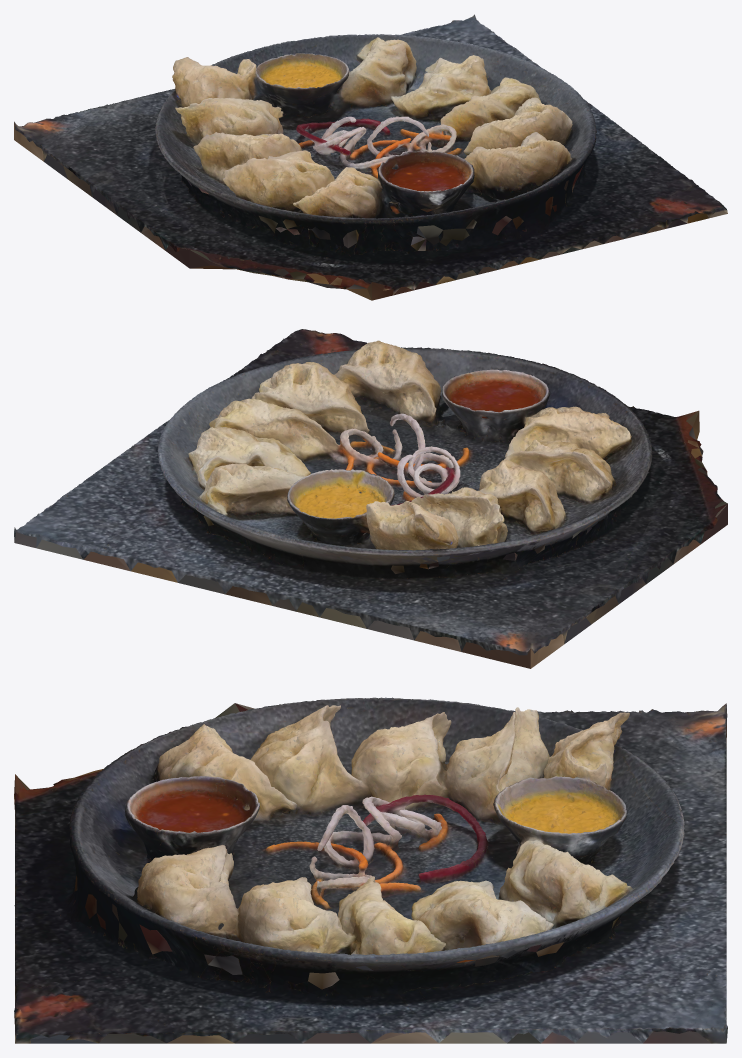
File: pizza-compressed.glb
The picture shows the model from 3 angles, top to bottom: view 1: azimuth 30°, elevation 25°; view 2: azimuth 150°, elevation 25°; view 3: azimuth 270°, elevation 25°; orthographic projection. The views are drawn at different scales.
Parts seen in each view (by area): view 1: model_tex_u1_v1_0; view 2: model_tex_u1_v1_0; view 3: model_tex_u1_v1_0.
Boxes of the visible parts, x1,y1,x2,y2 form: model_tex_u1_v1_0: (14, 14, 727, 300); model_tex_u1_v1_0: (14, 329, 727, 668); model_tex_u1_v1_0: (14, 697, 727, 1043).
Size of the model in its own units: 0.3434 by 0.055 by 0.3279.
1 material, 1 textured.
